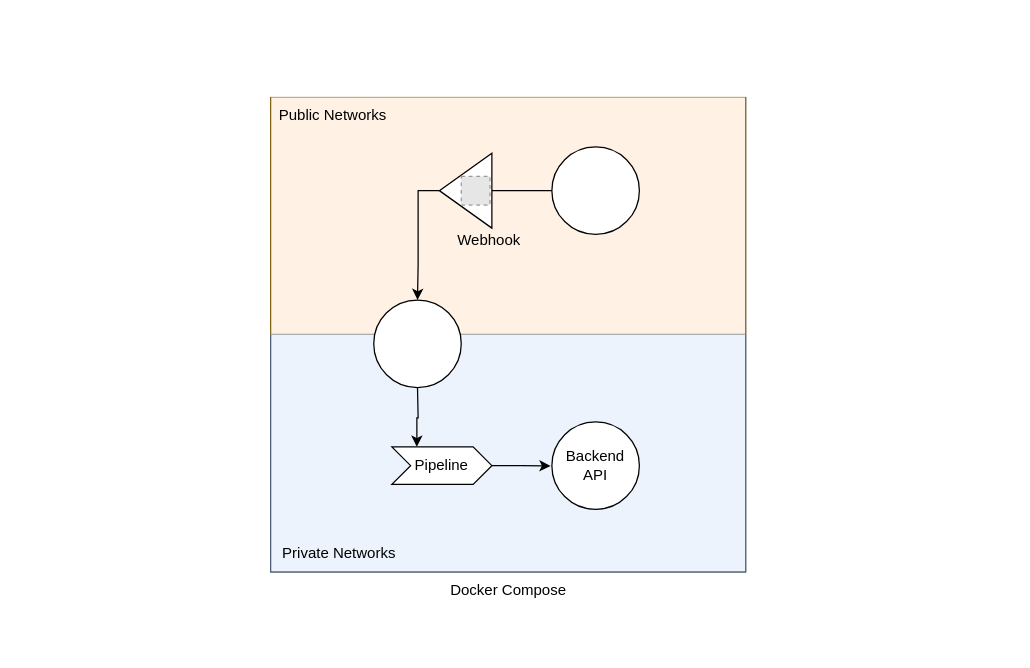
Some shapes in this 1030 by 668 pixel diagram are drawn without their labels. Grey dashed boxes stand in for pictures. Here are the shapes that lost their labels. From the top down, the centre of each, then its label:
At point 595,190: "Git".
At point 416,343: "Jenkins Controller".
